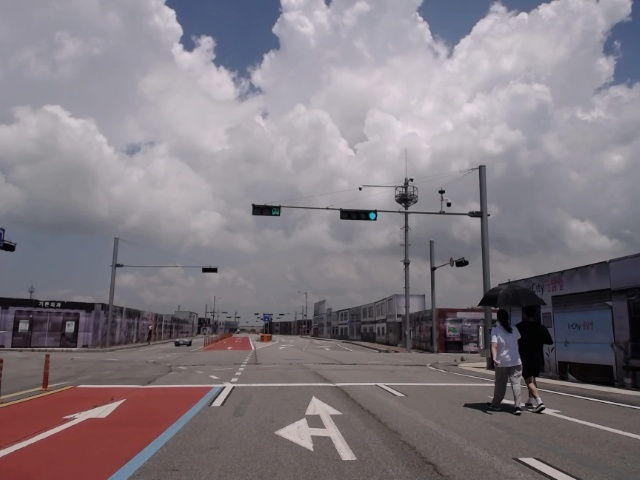straight_green_4: (340, 209, 378, 222)
